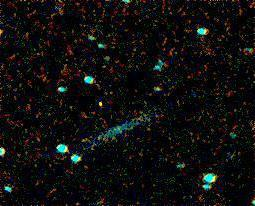star: (86, 88, 116, 118)
